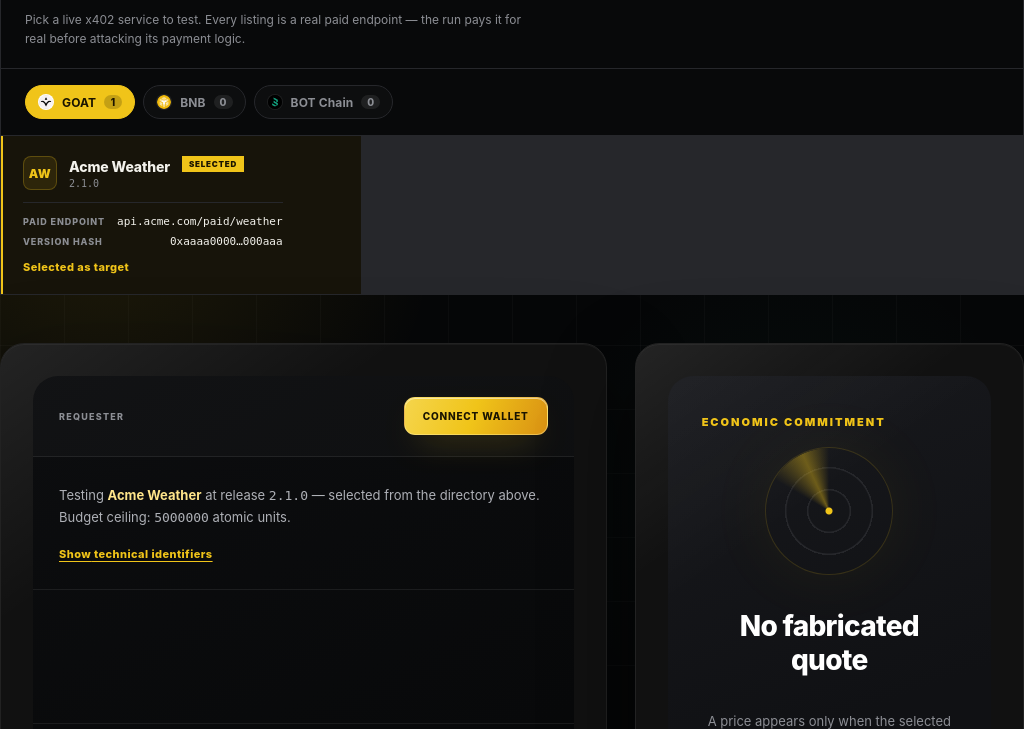
Test: ReleaseRunForm › surfaces the API error instead of a raw exception when quoting fails
Click the button "Connect wallet". click: point(476, 416)
box: [404,397,548,435]
(page scrolled)
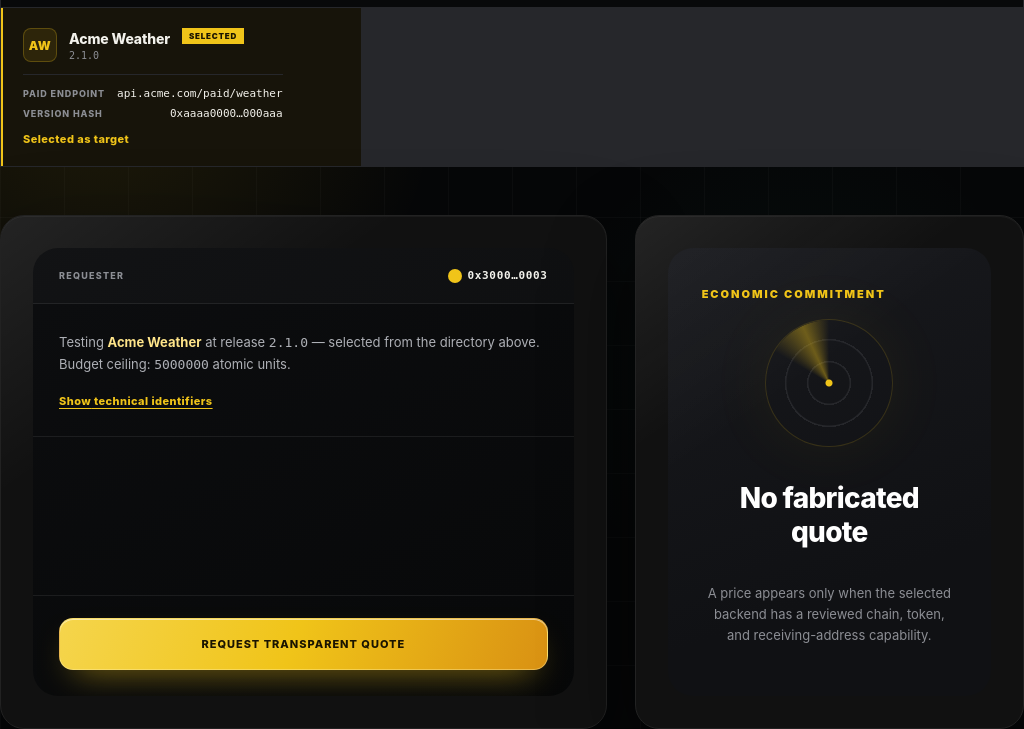
Click the button "Request transparent quote". click: point(303, 644)
box: [59,618,548,670]
(page scrolled)
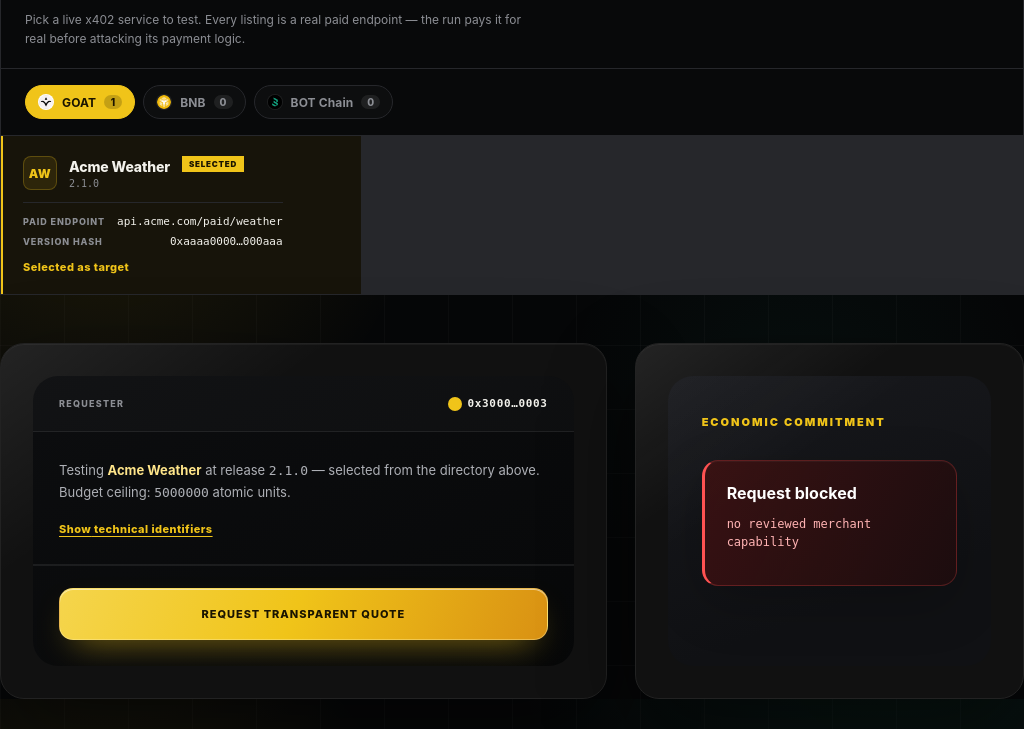
Now the text "no reviewed merchant capability" is shown, box [727,517,871,549]
